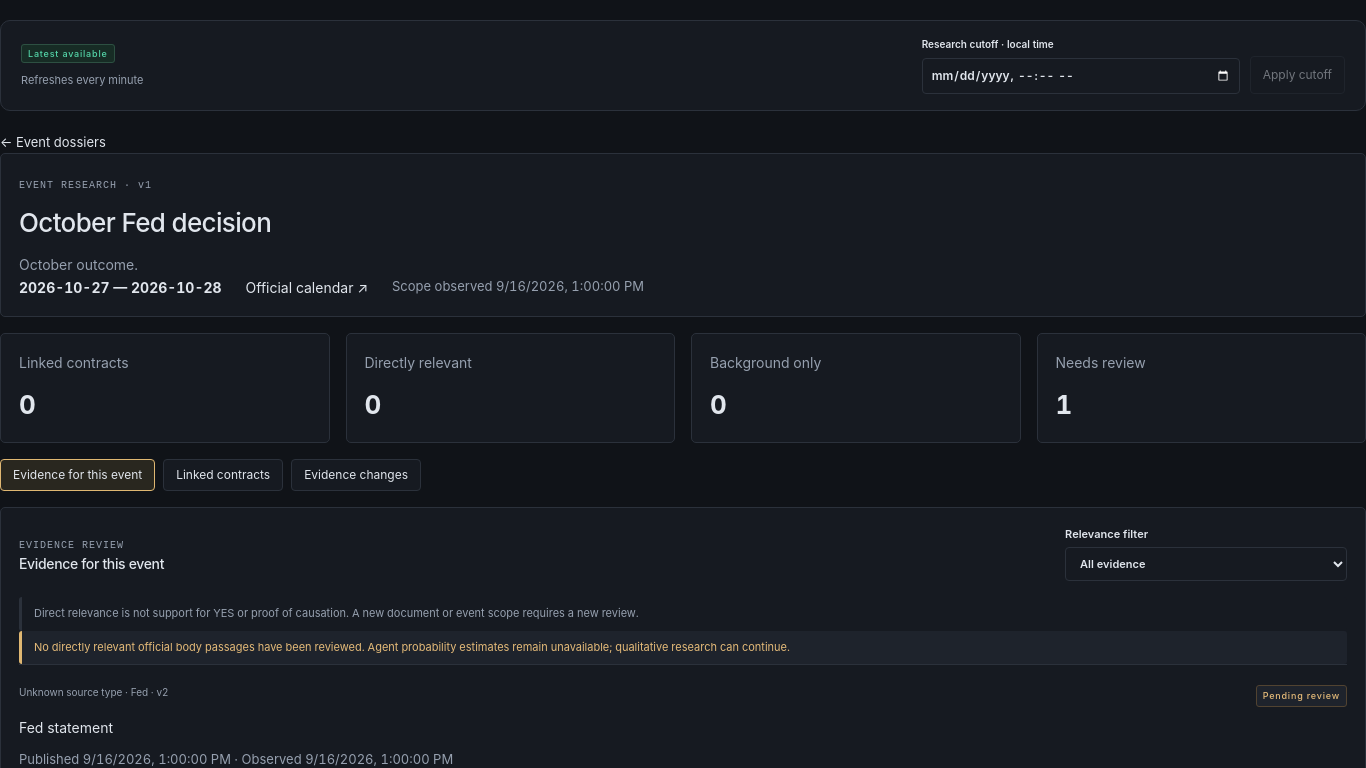
separates pending candidates from approvals and preserves exact evidence cutoff
The image size is (1366, 768).
Expected: the heading "October Fed decision" is shown, [19,206,271,238]
Expected: the text "No directly relevant official body passages have been reviewed" is shown, [34,640,790,654]
Select "Directly relevant · 0" in the dropdown labelled "Relevance filter": (1206, 564) [1065,547,1347,581]
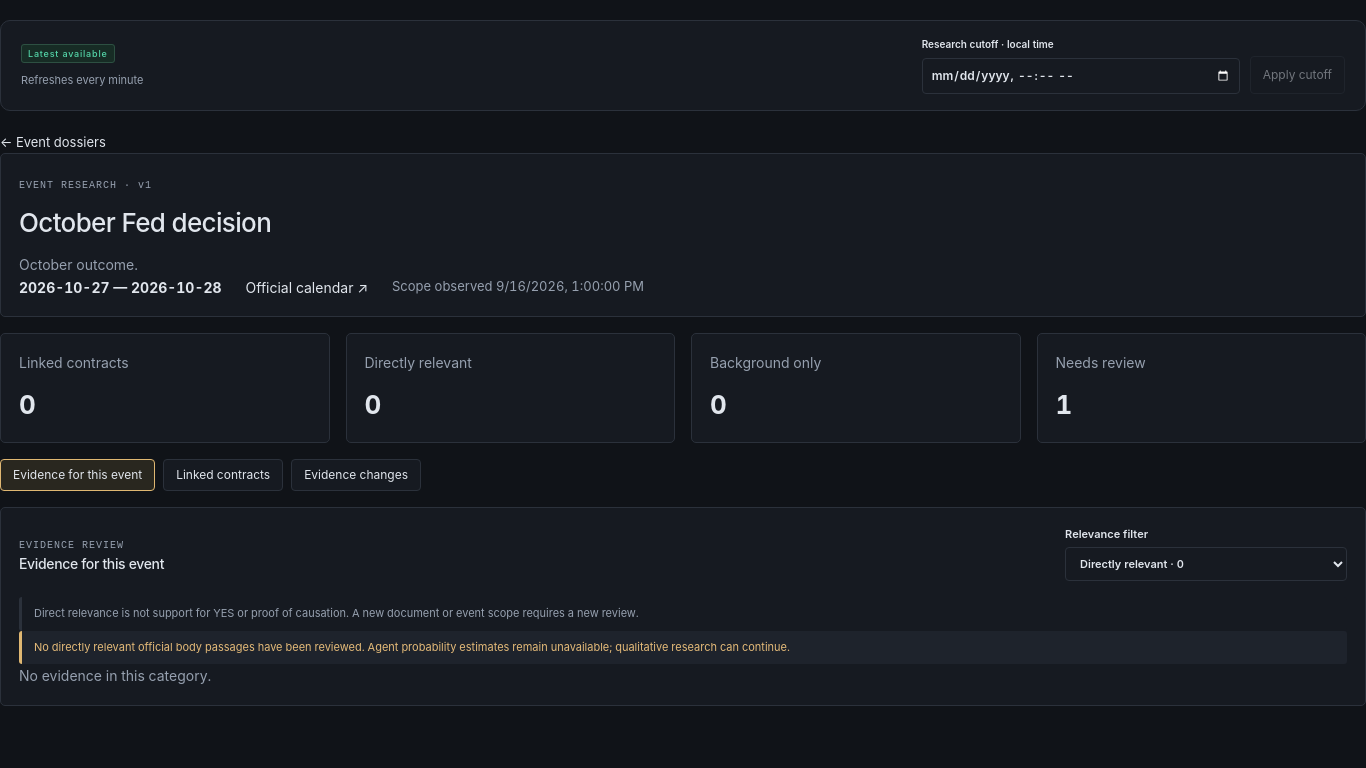
Expected: the text "No evidence in this category." is shown, [19,667,211,684]
Expected: the link "Fed statement" is gone
